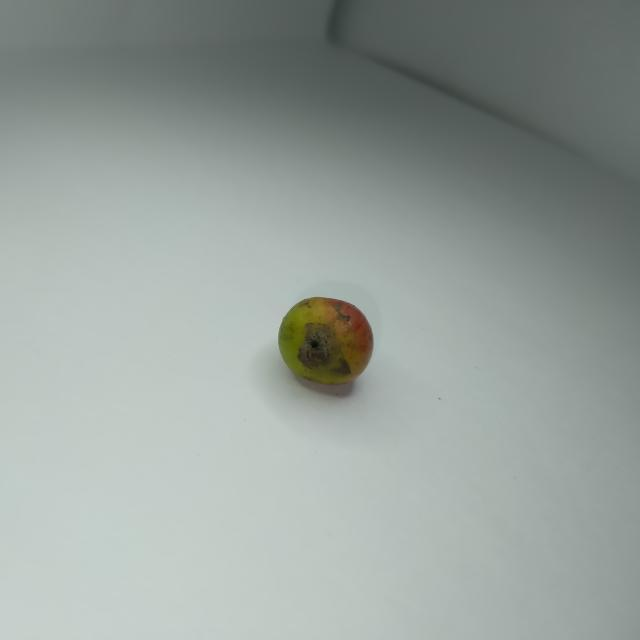Infectado: (278, 297, 372, 390)
